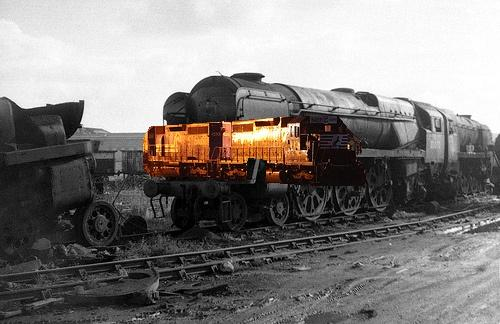tampered: (144, 116, 366, 186)
